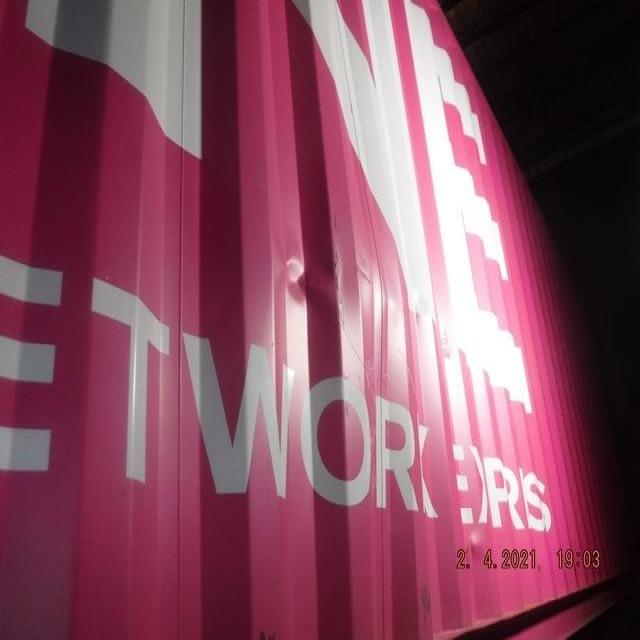dent: (323, 165, 433, 445), (267, 241, 317, 317), (466, 529, 489, 560)
